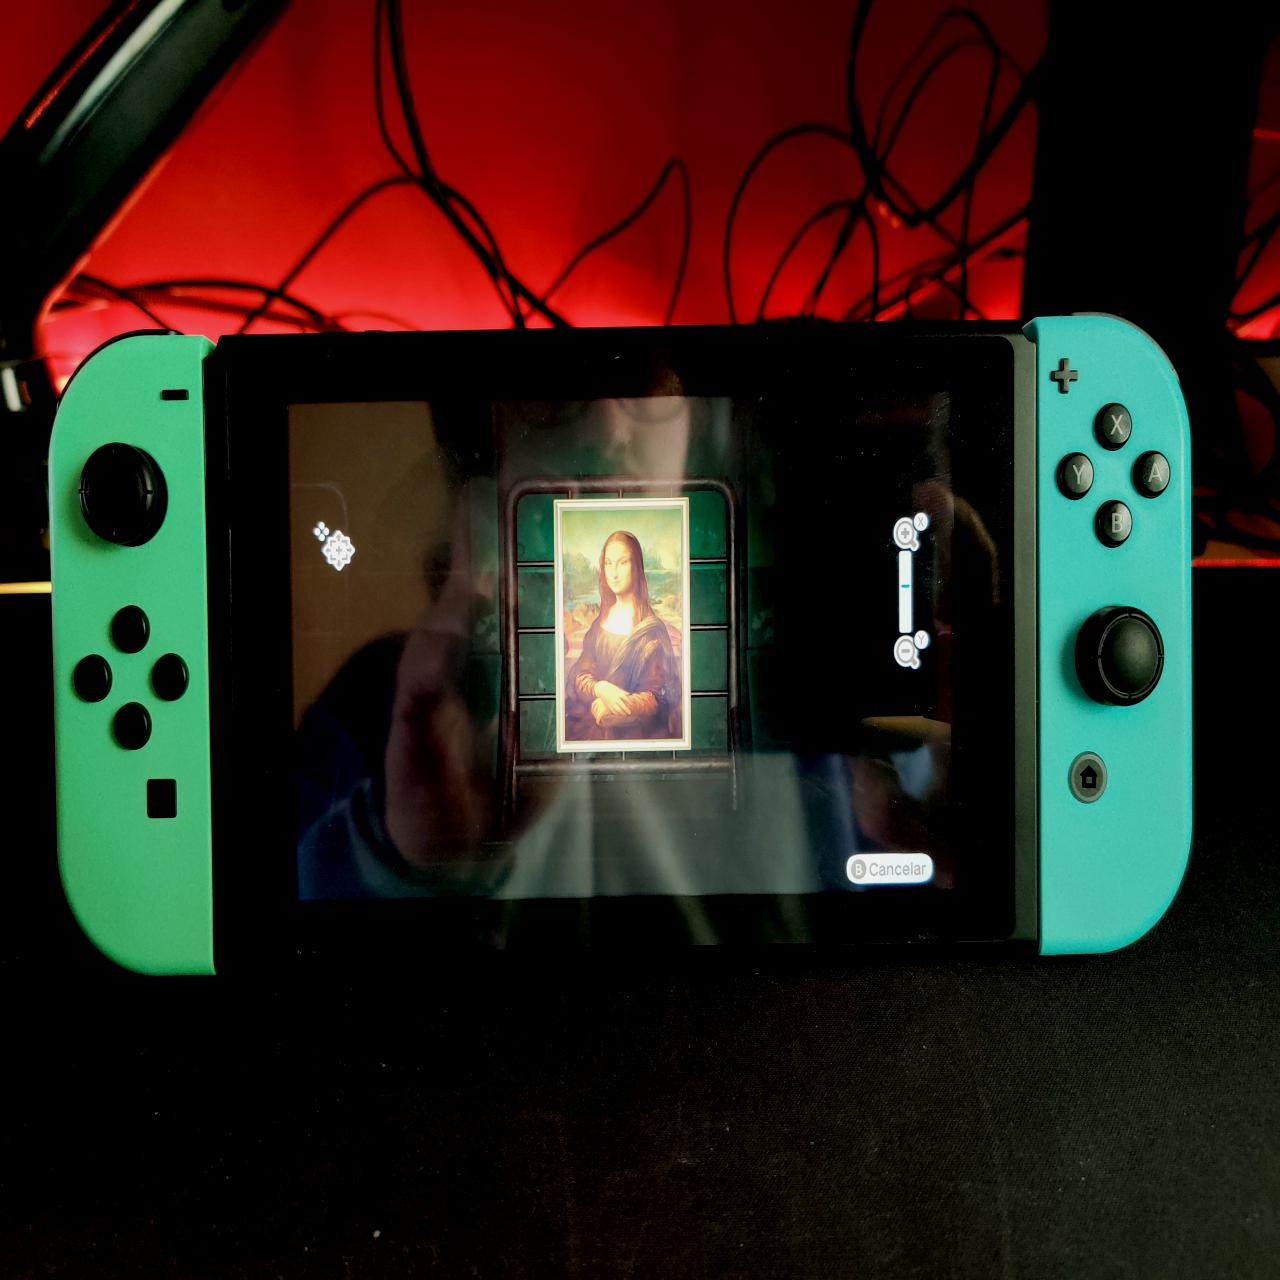MonaLisaFake: (563, 512, 685, 742)
